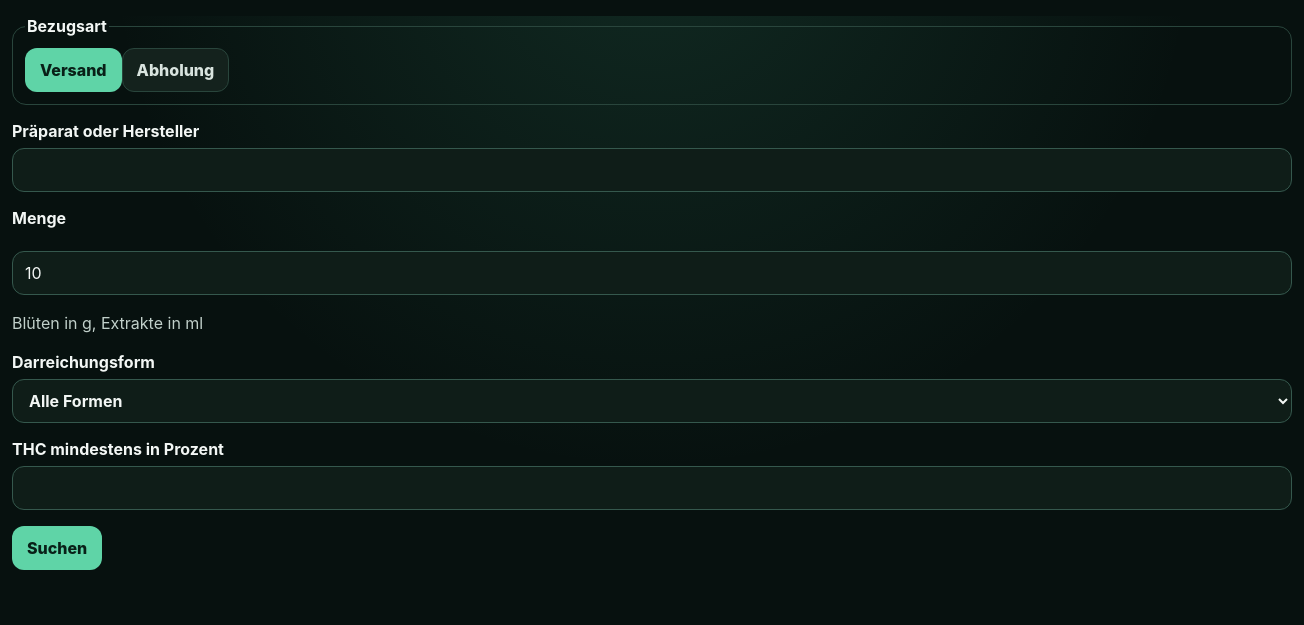
Scenario: keeps a newer error when an older search resolves afterwards
In the search field: (652, 170) [12, 148, 1292, 192], type "Alpha"
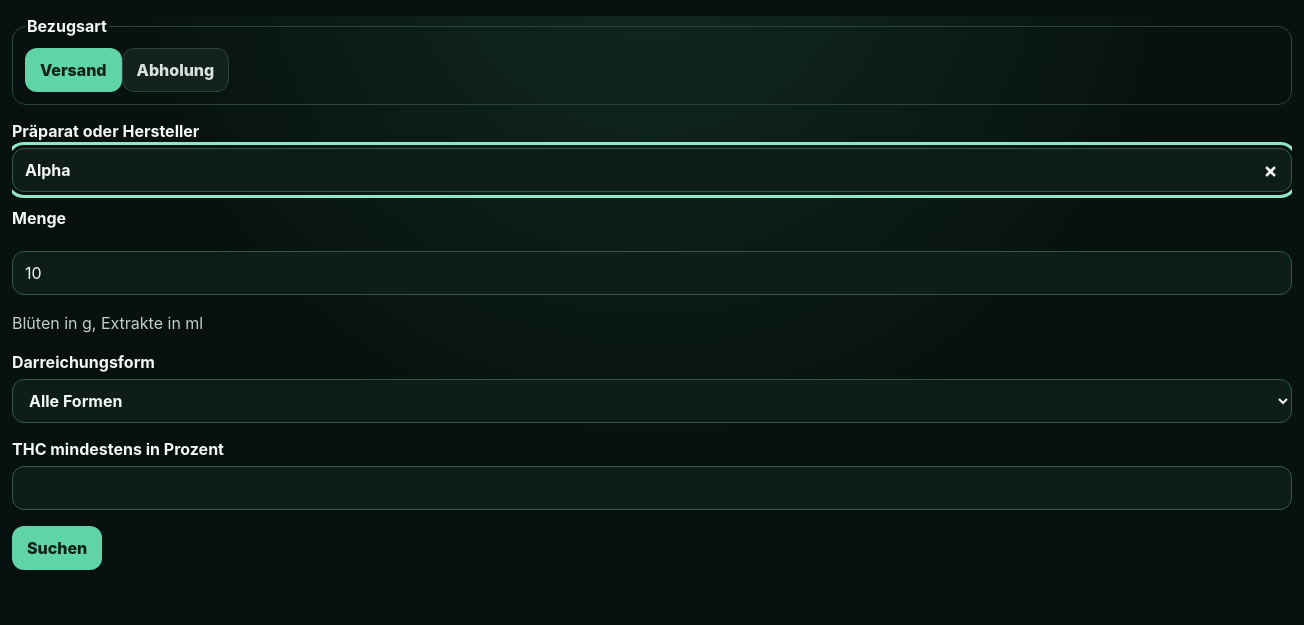
Click the button "Suchen": (57, 548) [12, 526, 102, 570]
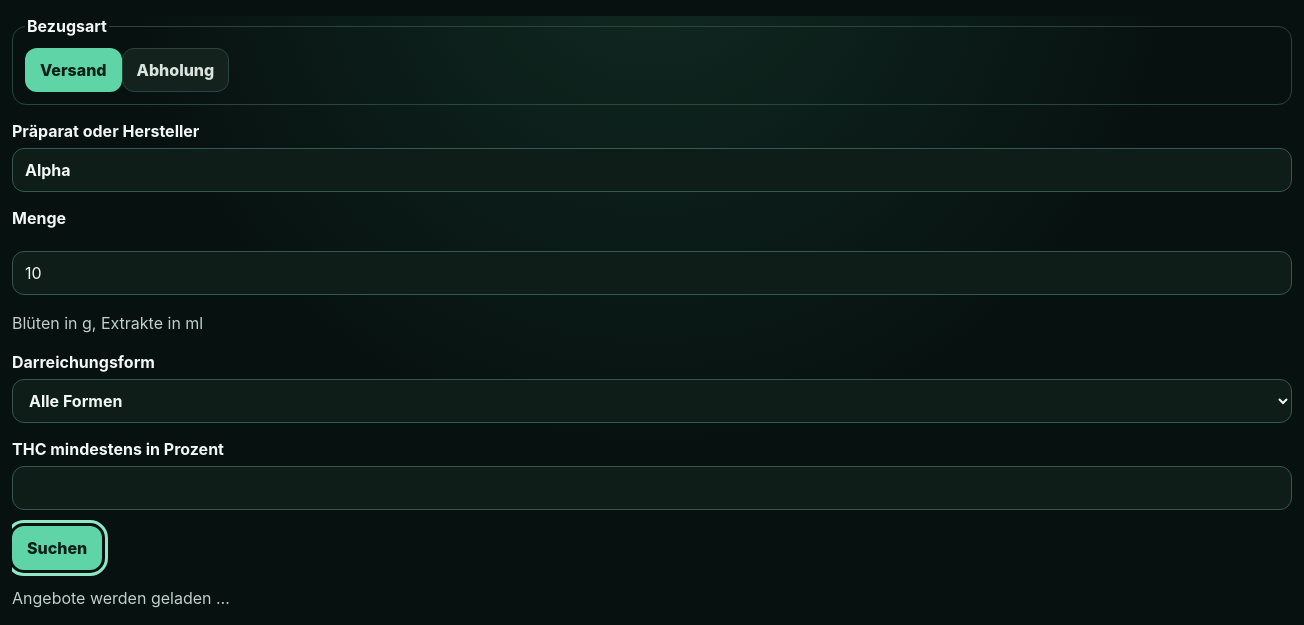
Replace the text in the search field with "Beta": (652, 170) [12, 148, 1292, 192]
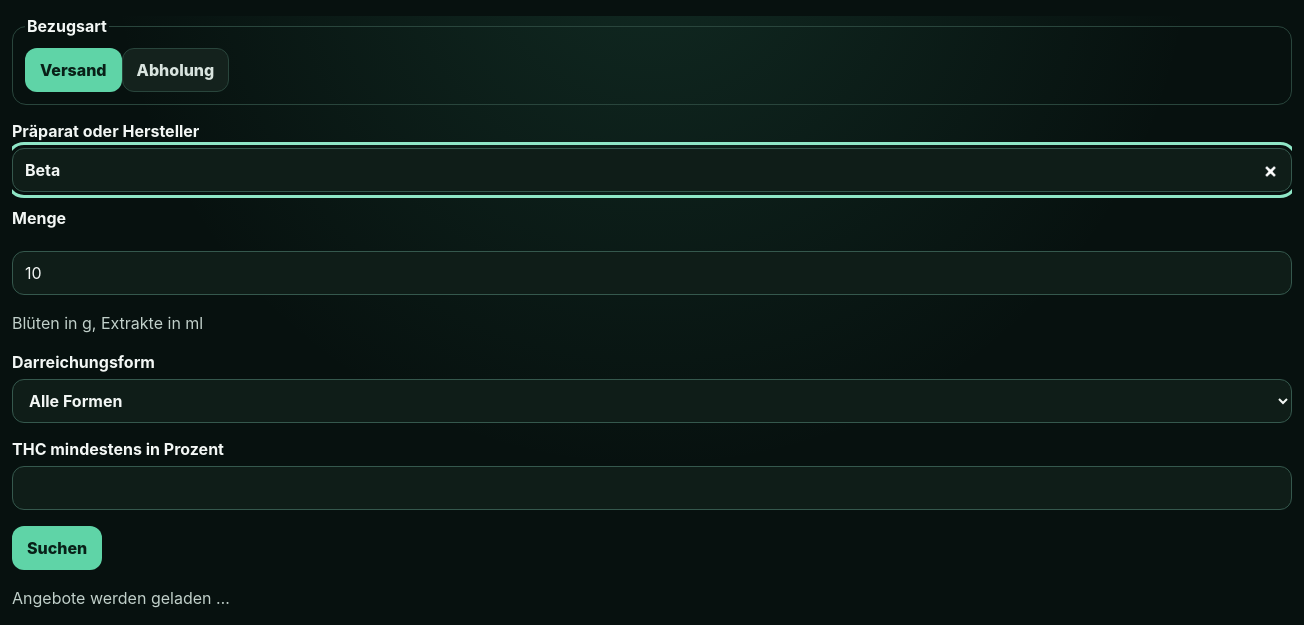
Click the button "Suchen": (57, 548) [12, 526, 102, 570]
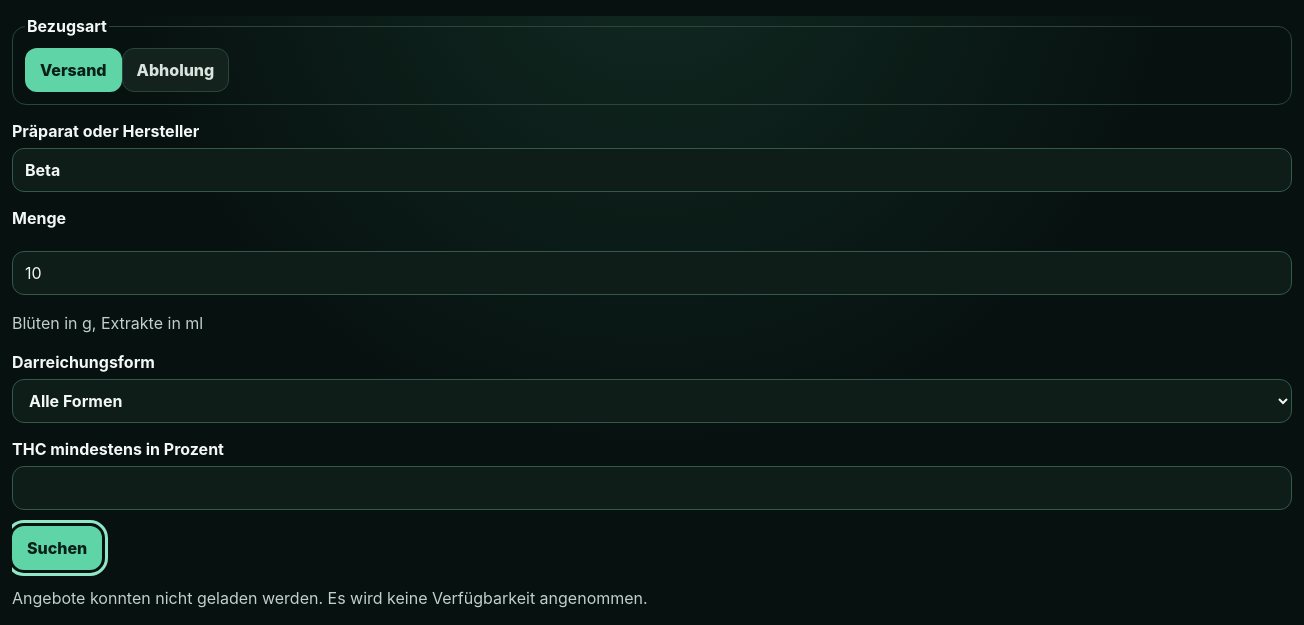
Expected: the message "Angebote konnten nicht geladen werden. Es wird keine Verfügbarkeit angenommen." is shown, [12, 588, 648, 608]
